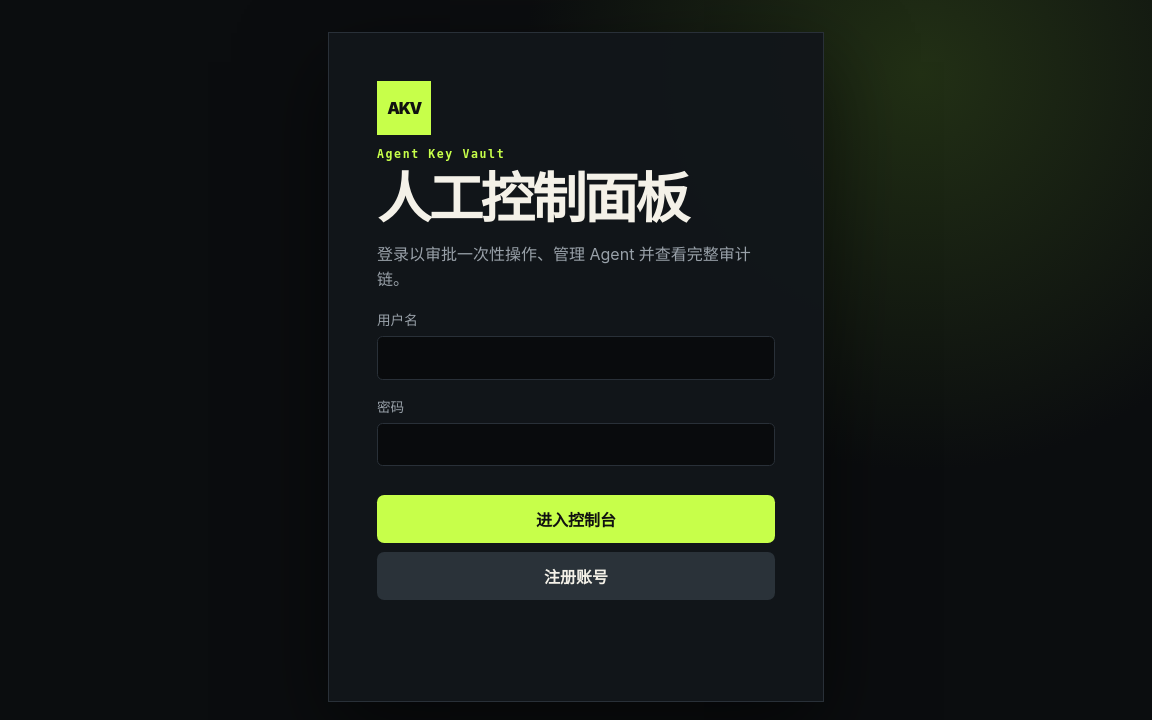
Test: authentication view transition › shows login after an anonymous boot and replaces it with the workspace after login
This screenshot has width=1152, height=720.
Type "admin" into the field named "username" at coordinates (576, 358), box [377,336,775,380]
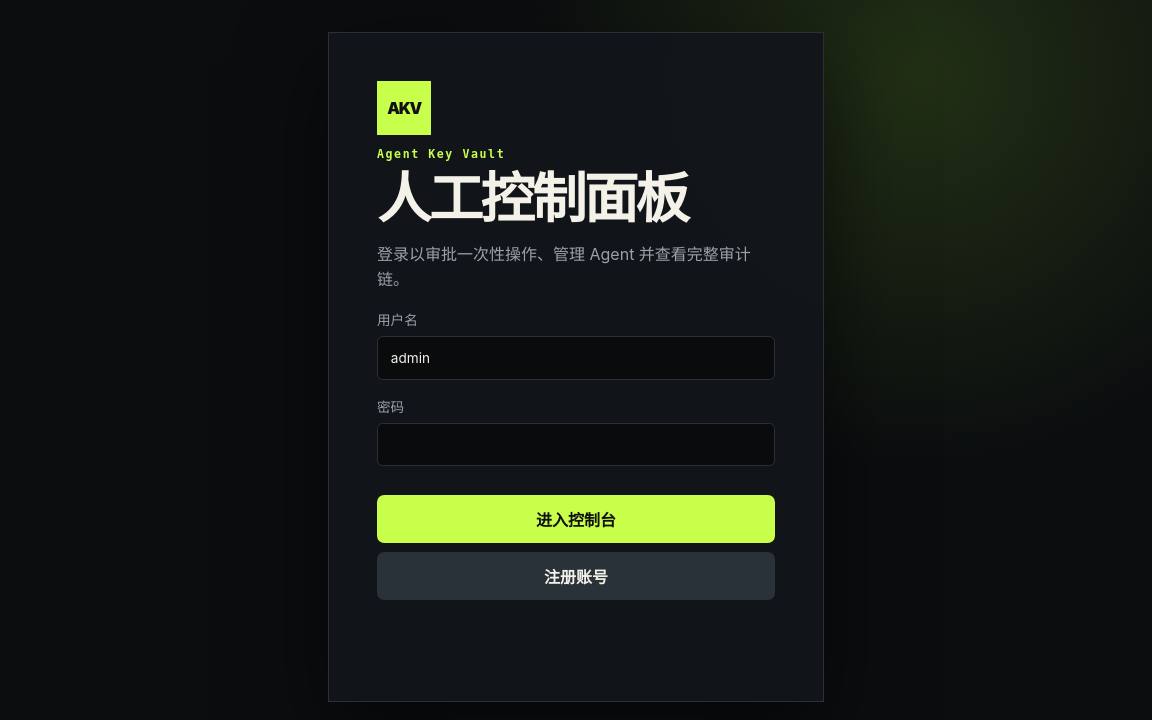
Type "password" into the password field named "password" at coordinates (576, 445), box [377,423,775,466]
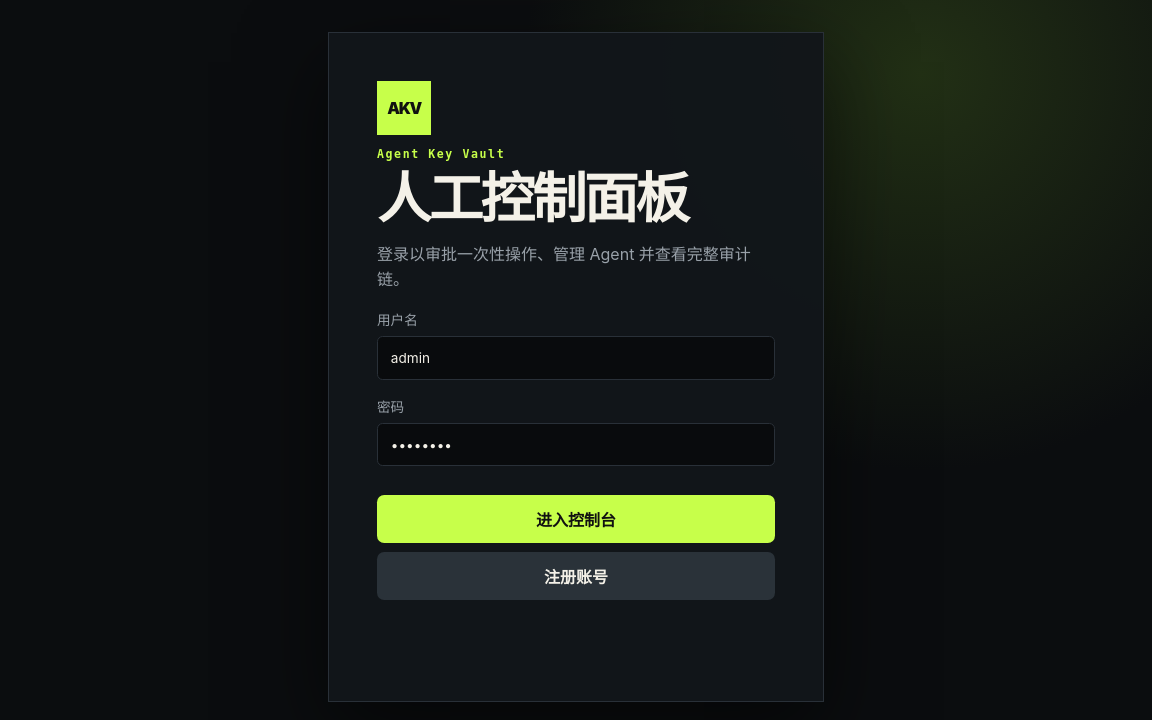
Submit the form, box [377,309,775,637]
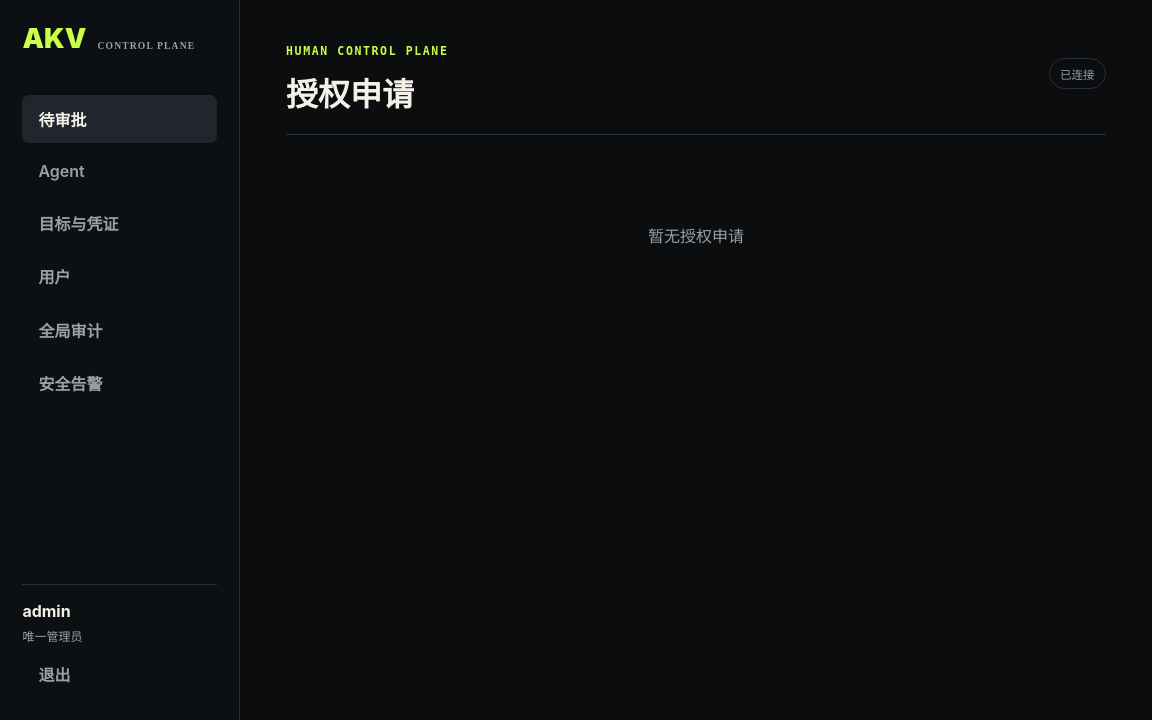
Expected: the element with class "app-shell" is shown
Expected: the element with class "app-shell" shows "唯一管理员", [22,629,82,644]
Expected: the element with class "app-shell" shows "暂无授权申请", [648,226,744,246]
